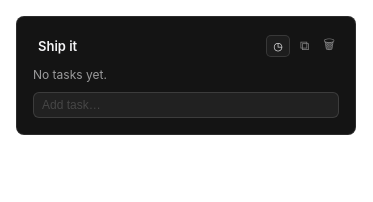
Test: AnimalDetail timer picker › rejects a new duration under 1 minute
Click the button named "edit focus timer" at (278,46), box [266,35,290,57]
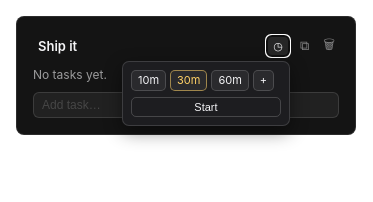
Click the button named "add timer" at (263,80), box [253,70,274,91]
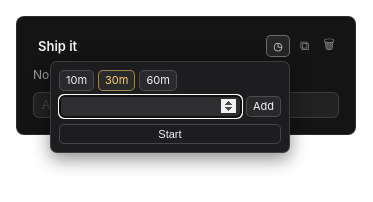
Type "0" into the number field named "custom timer minutes" at (150,106), box [59,95,242,118]
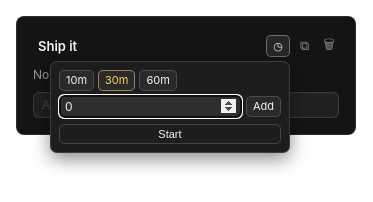
Click the button "Add" at (263,106), box [246,96,281,117]
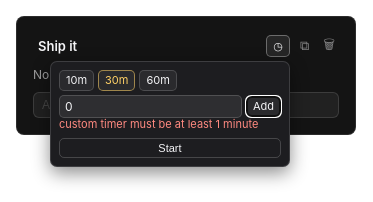
Expected: the text "custom timer must be at least 1 minute" is shown, [59,118,281,132]
